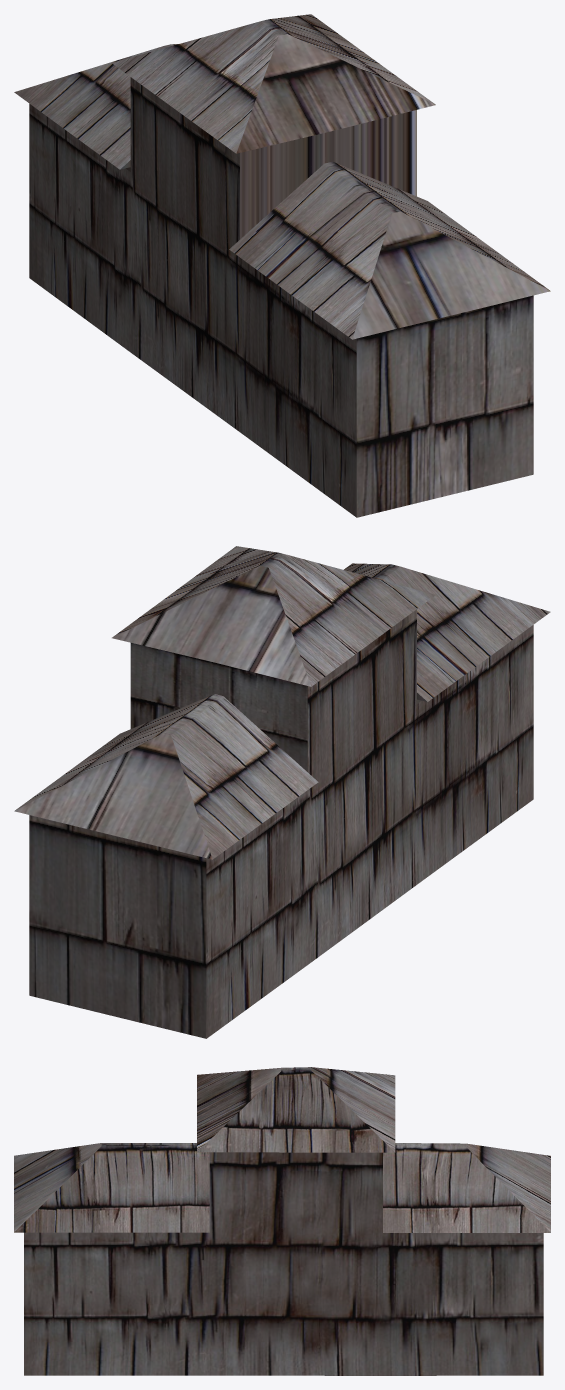
The model's file is ClockTower.obj.
The picture shows the model from 3 angles, top to bottom: view 1: azimuth 30°, elevation 25°; view 2: azimuth 150°, elevation 25°; view 3: azimuth 270°, elevation 25°; orthographic projection. The views are drawn at different scales.
Visible parts, largest first — view 1: Clocktower; view 2: Clocktower; view 3: Clocktower.
Part boxes in pixels (bbox=[...]): Clocktower: bbox=[14, 14, 550, 517]; Clocktower: bbox=[14, 546, 550, 1038]; Clocktower: bbox=[14, 1067, 550, 1375].
Bounding box in the file's own units: 56.49 × 92.8 × 166.
